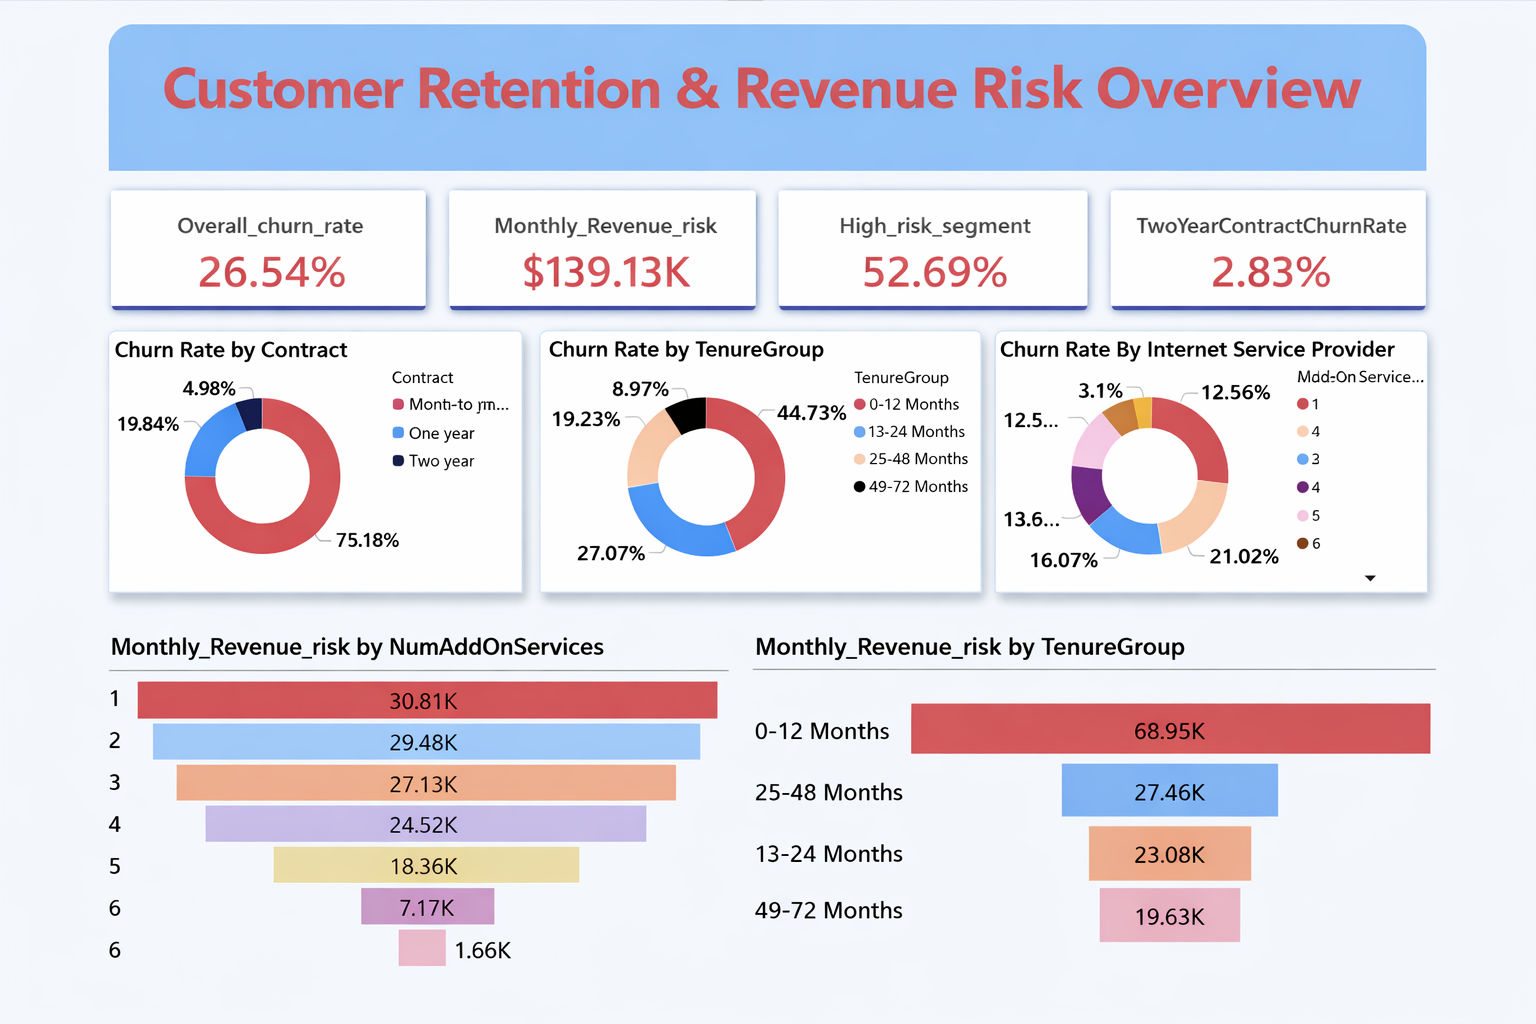

What the dashboard file says about the page in this screenshot:
{"tool":"powerbi","page":{"name":"Page 1","canvas":[1300,900],"ordinal":0},"visuals":[{"type":"cardVisual","fields":{"Data":["telecom_cleaned.Overall_churn_rate","telecom_cleaned.Monthly_Revenue_risk","telecom_cleaned.High_risk_segment","telecom_cleaned.TwoYearContractChurnRate"]},"box":[0,149.4,1299.6,165.6],"z":0},{"type":"shape","box":[0,0,1280,149.5],"z":1000},{"type":"textbox","box":[50.4,20.2,1179.2,110.9],"z":2000},{"type":"donutChart","title":"Churn Rate By Internet Service Provider","fields":{"Y":["telecom_cleaned.Churn Rate"],"Category":["telecom_cleaned.NumAddOnServices"]},"box":[873,293.4,424.8,244.8],"z":3000},{"type":"funnel","fields":{"Y":["telecom_cleaned.Monthly_Revenue_risk"],"Category":["telecom_cleaned.TenureGroup"]},"box":[649.8,559.8,649.8,340.2],"z":4000},{"type":"donutChart","fields":{"Category":["telecom_cleaned.TenureGroup"],"Y":["telecom_cleaned.Churn Rate"]},"box":[428.4,293.4,433.8,244.8],"z":5000},{"type":"donutChart","fields":{"Y":["telecom_cleaned.Churn Rate"],"Category":["telecom_cleaned.Contract"]},"box":[0,293.4,412.2,244.8],"z":5001},{"type":"funnel","fields":{"Y":["telecom_cleaned.Monthly_Revenue_risk"],"Category":["telecom_cleaned.NumAddOnServices"]},"box":[0,576,628.2,324],"z":5002}]}

Visuals, with their boxes on the page's 1300x900 design canvas (x1, y1, x2, y2). These are canvas units, not pixel positions in the 1536x1024 screenshot, which may show the page scaled, cropped or inside an application window:
cardVisual - telecom_cleaned.Overall_churn_rate x telecom_cleaned.Monthly_Revenue_risk: <bbox>0, 149, 1300, 315</bbox>
shape: <bbox>0, 0, 1280, 150</bbox>
textbox: <bbox>50, 20, 1230, 131</bbox>
"Churn Rate By Internet Service Provider" donutChart: <bbox>873, 293, 1298, 538</bbox>
funnel - telecom_cleaned.Monthly_Revenue_risk x telecom_cleaned.TenureGroup: <bbox>650, 560, 1300, 900</bbox>
donutChart - telecom_cleaned.TenureGroup x telecom_cleaned.Churn Rate: <bbox>428, 293, 862, 538</bbox>
donutChart - telecom_cleaned.Churn Rate x telecom_cleaned.Contract: <bbox>0, 293, 412, 538</bbox>
funnel - telecom_cleaned.Monthly_Revenue_risk x telecom_cleaned.NumAddOnServices: <bbox>0, 576, 628, 900</bbox>
